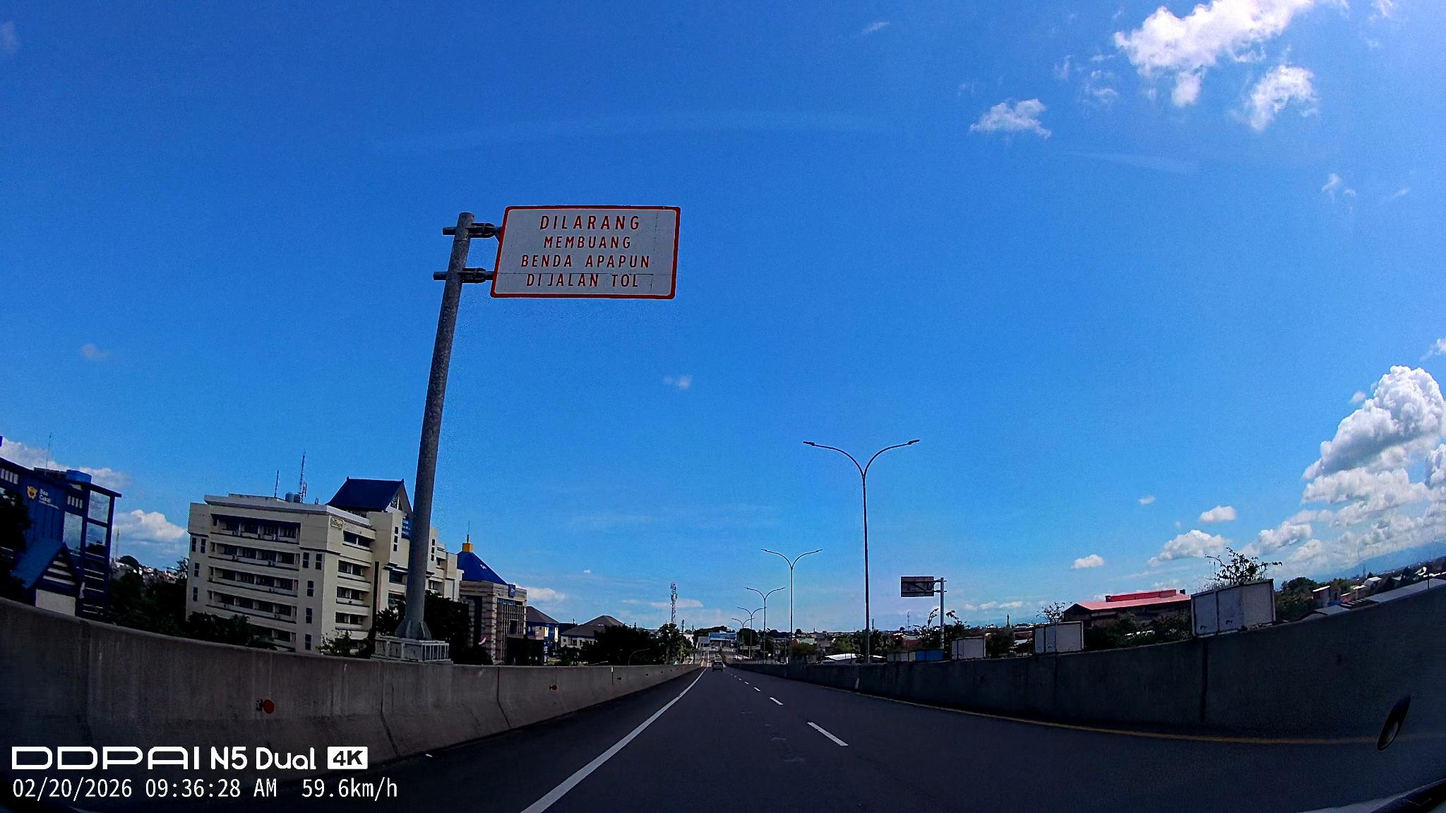rambu_teks: (489, 204, 682, 301)
